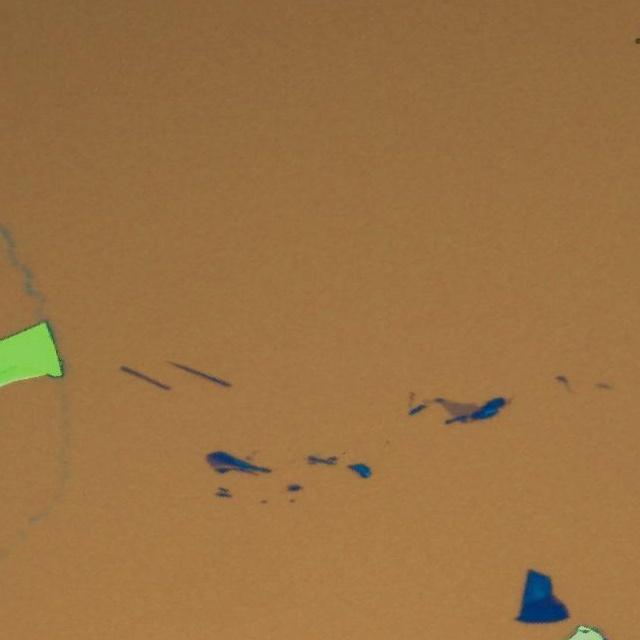monolayer-eWW4: (440, 396, 480, 418)
